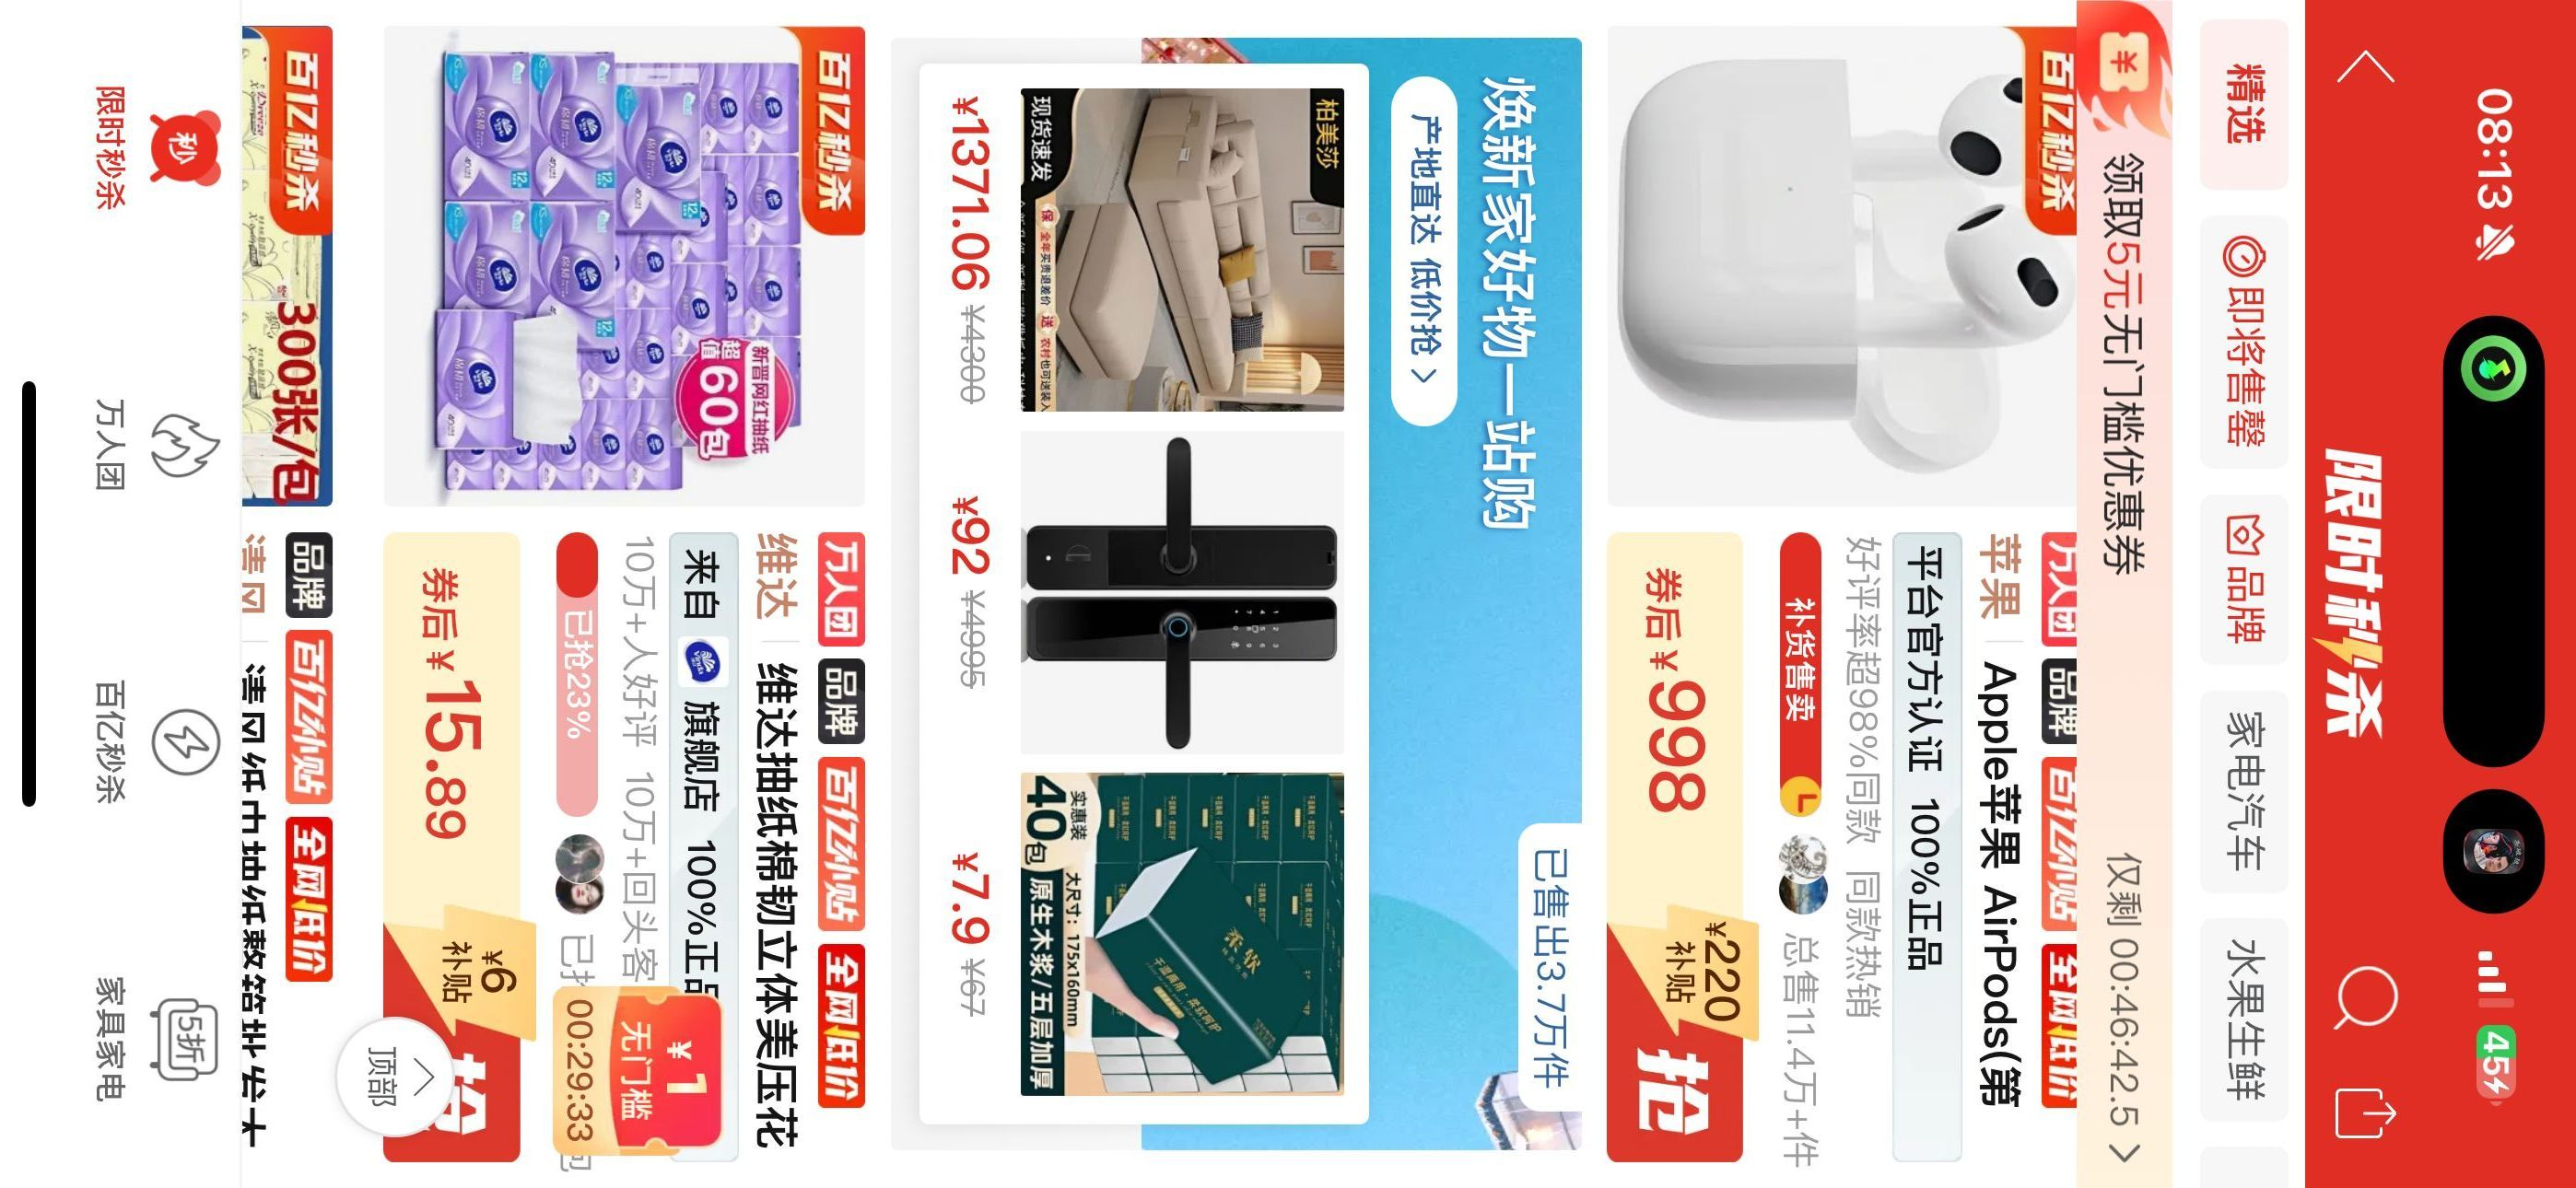banner: (876, 16, 1595, 1181)
item: (360, 8, 874, 1183), (1605, 3, 2080, 1183)
op_bar: (2313, 3, 2422, 1188)
